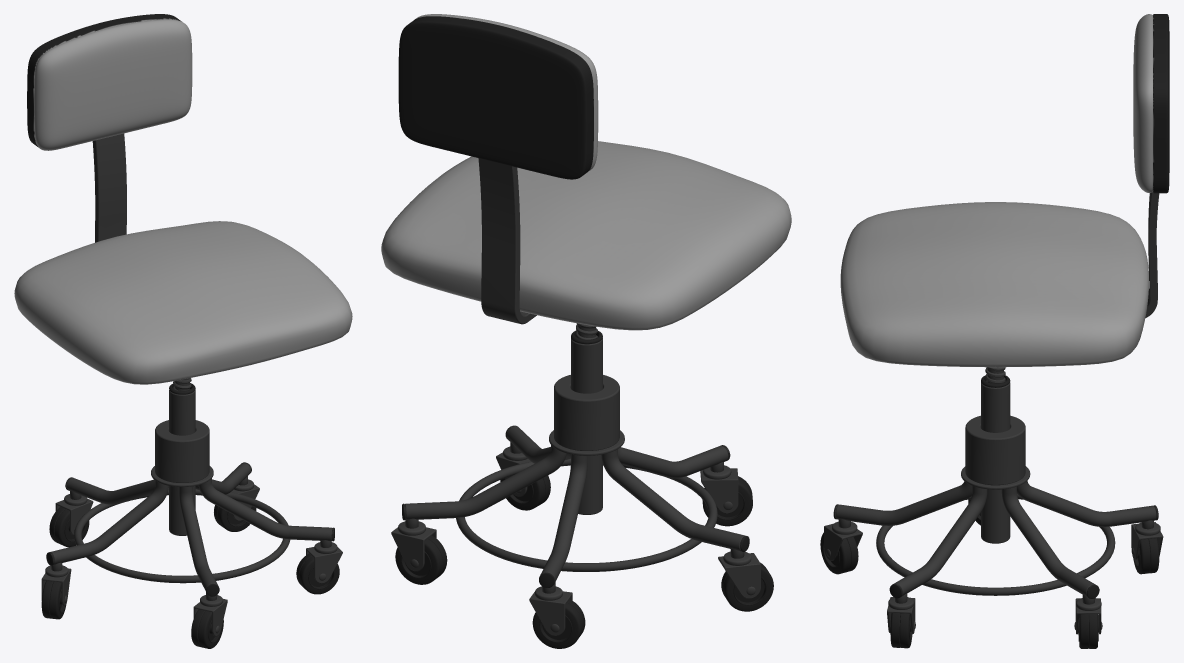
File: stool_02_.fbx
The picture shows the model from 3 angles, left to right: view 1: azimuth 30°, elevation 25°; view 2: azimuth 150°, elevation 25°; view 3: azimuth 270°, elevation 25°; orthographic projection. The views are drawn at different scales.
Visible parts, largest first — view 1: stool_02_; view 2: stool_02_; view 3: stool_02_.
Boxes of the visible parts, x1=… form: stool_02_: x1=14, y1=14, x2=352, y2=648; stool_02_: x1=381, y1=14, x2=791, y2=648; stool_02_: x1=820, y1=14, x2=1169, y2=648.
Bounding box in the file's own units: 48.44 × 85.08 × 48.36.
Materials: 1 (1 with a texture image).
